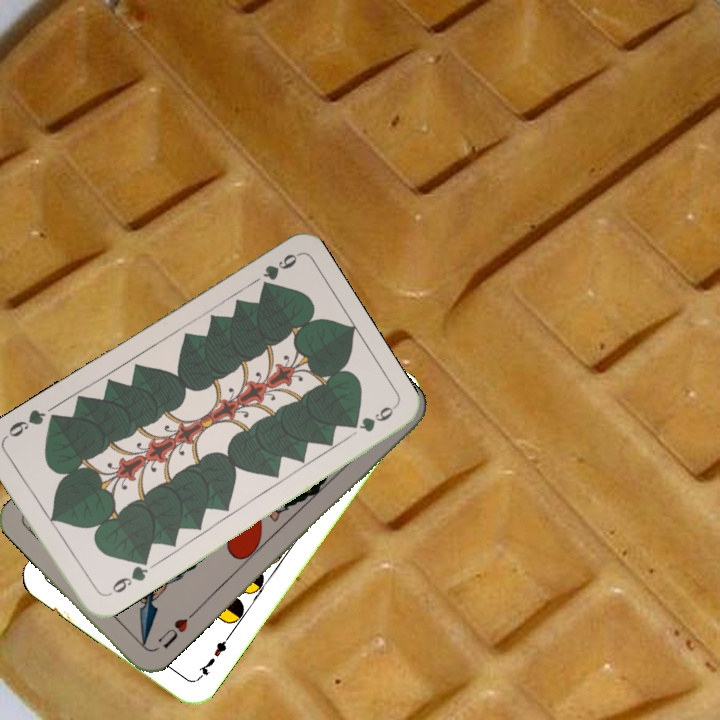E7: (193, 631, 233, 682)
G9: (101, 557, 151, 599), (256, 249, 300, 293)
HU: (153, 609, 197, 651)
